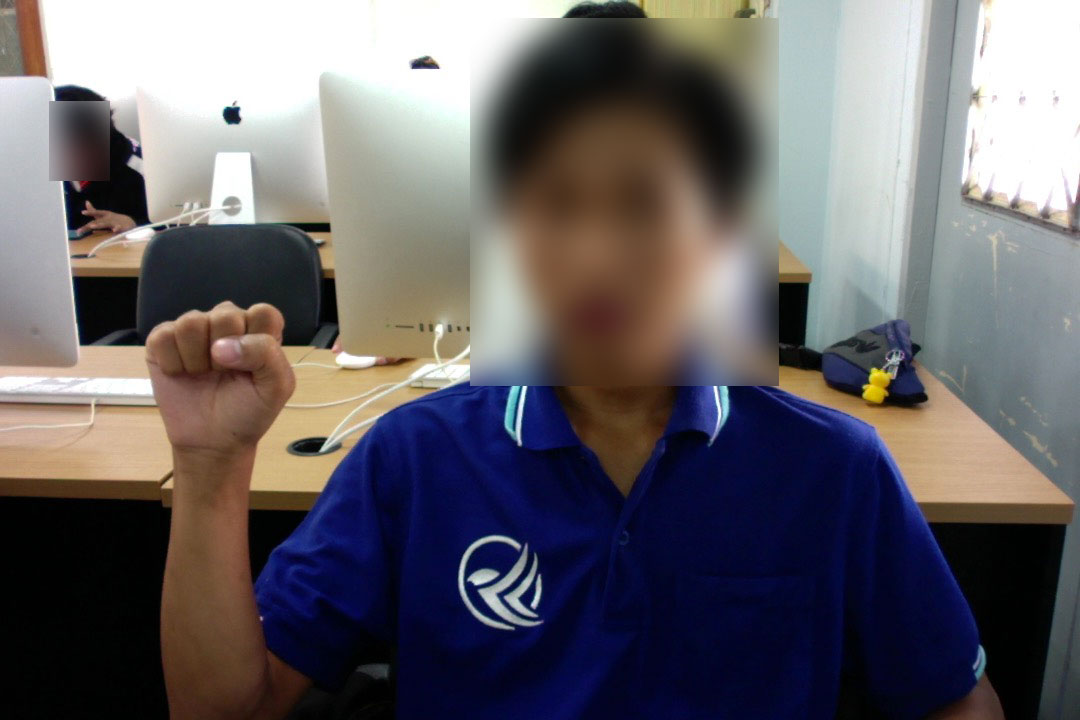sor: (137, 296, 298, 471)
